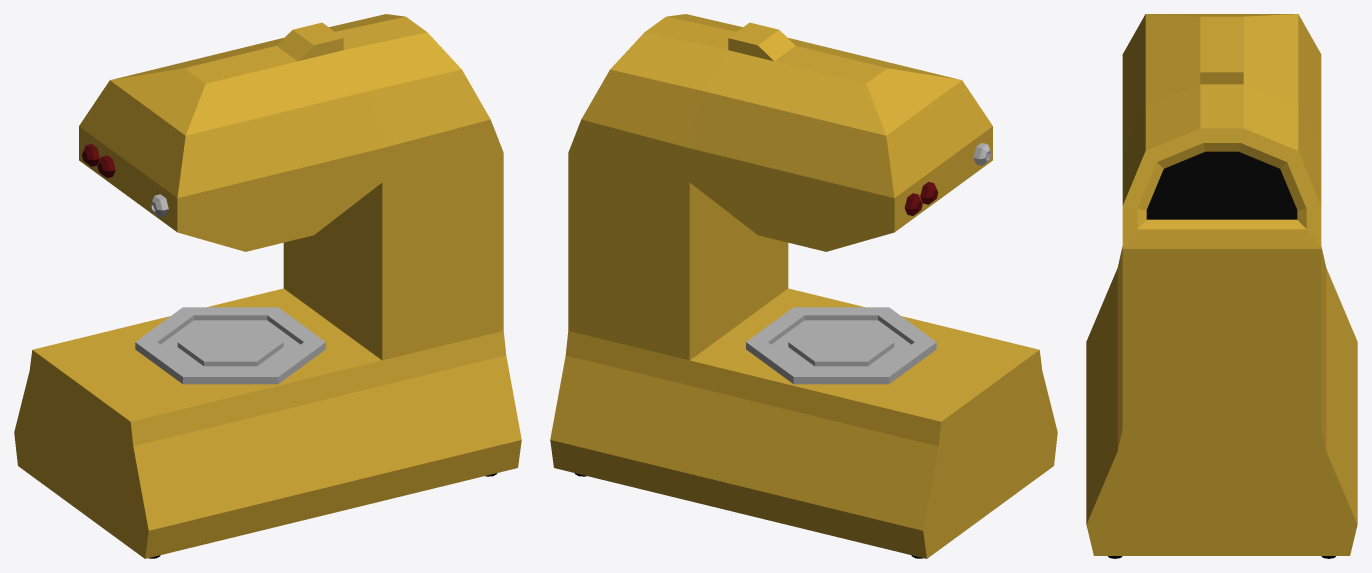
Rendered from coffee machine lvl2.fbx.
3 views of the same model, side by side, from view 1: azimuth 30°, elevation 25°; view 2: azimuth 150°, elevation 25°; view 3: azimuth 270°, elevation 25° (orthographic).
Visible parts, largest first — view 1: Cube.005; view 2: Cube.005; view 3: Cube.005.
Part boxes in pixels (x1,y1,x2,y2): Cube.005: (14, 14, 521, 558); Cube.005: (550, 14, 1057, 558); Cube.005: (1086, 14, 1357, 558).
Size of the model in its own units: 143 by 230 by 253.
Materials: 1 (1 with a texture image).
